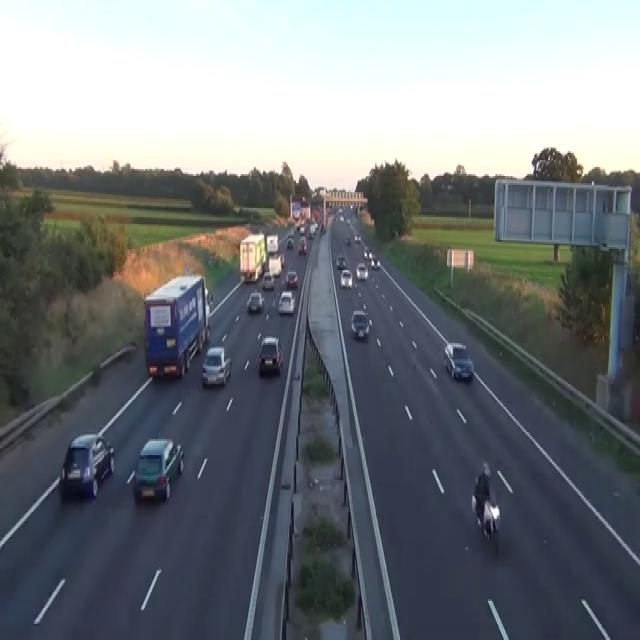Car: (60, 432, 114, 498), (133, 438, 184, 502), (471, 464, 500, 539), (201, 345, 231, 386), (443, 342, 473, 381), (258, 336, 283, 373), (350, 310, 371, 340), (277, 290, 295, 314), (246, 290, 264, 311), (340, 268, 352, 288), (355, 261, 368, 279), (285, 270, 297, 288), (262, 272, 274, 290), (244, 268, 257, 282), (297, 237, 307, 254), (336, 254, 346, 268), (205, 286, 212, 306), (363, 246, 373, 260), (370, 258, 380, 268), (309, 224, 316, 238), (319, 222, 326, 235), (279, 254, 285, 267), (286, 238, 293, 249), (354, 233, 361, 242), (288, 228, 295, 236), (344, 237, 350, 246), (369, 252, 374, 262), (299, 226, 305, 234), (294, 222, 299, 231), (314, 220, 318, 230), (345, 219, 350, 224), (340, 215, 344, 221)
Truck: (143, 272, 212, 379), (239, 231, 265, 283), (266, 233, 278, 252)
